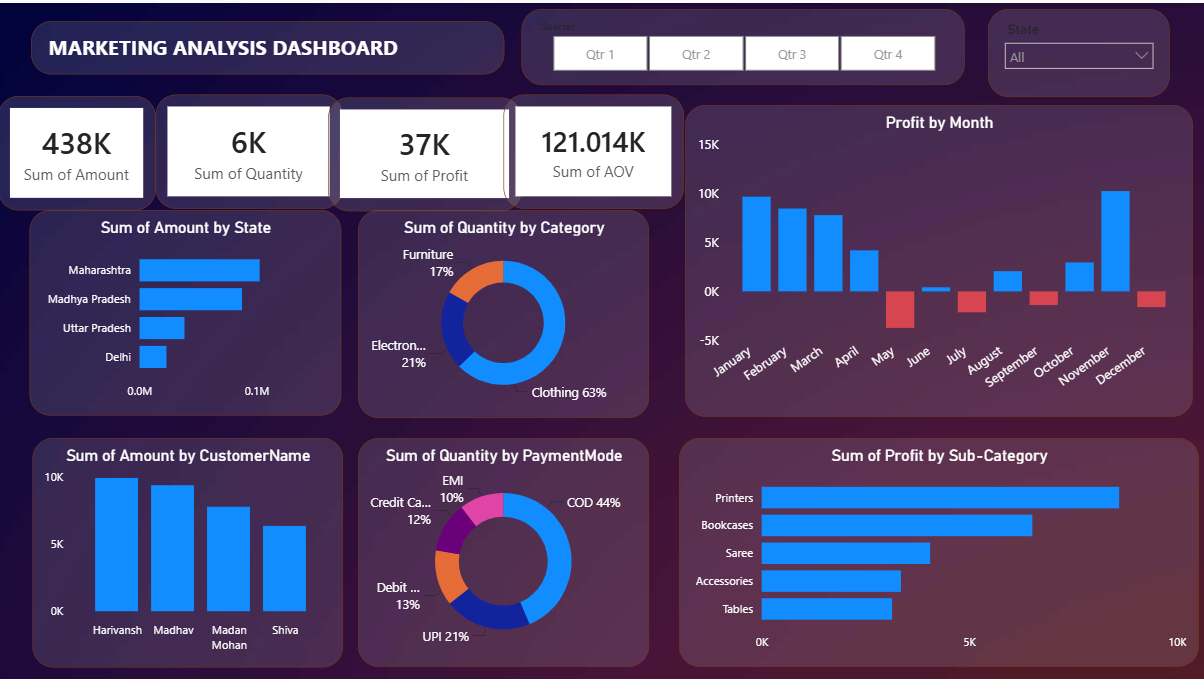

The page's visual inventory and layout, read from the dashboard file:
{"tool":"powerbi","page":{"name":"Page 1","canvas":[1280,720],"ordinal":0},"visuals":[{"type":"textbox","box":[34.9,18.4,501.8,57],"z":0},{"type":"columnChart","title":" Profit by Month","fields":{"Category":["Orders.Order Date.Variation.Date Hierarchy.Month"],"Y":["Sum(Details.Profit)"]},"box":[727.9,108.5,538.6,330.9],"z":1000},{"type":"barChart","fields":{"Category":["Details.Sub-Category"],"Y":["Sum(Details.Profit)"]},"box":[722.4,461.4,551.5,242.6],"z":2000},{"type":"donutChart","fields":{"Category":["Details.Category"],"Y":["Sum(Details.Quantity)"]},"box":[382.3,218.7,308.8,220.6],"z":3000},{"type":"donutChart","fields":{"Category":["Details.PaymentMode"],"Y":["Sum(Details.Quantity)"]},"box":[382.3,461.4,308.8,242.6],"z":4000},{"type":"cardVisual","fields":{"Data":["Sum(Details.Amount)"]},"box":[0,99.3,167.3,121.3],"z":5000},{"type":"cardVisual","fields":{"Data":["Sum(Details.Quantity)"]},"box":[167.3,97.4,198.5,121.3],"z":6000},{"type":"cardVisual","fields":{"Data":["Sum(Details.Profit)"]},"box":[349.5,99.5,205.5,120.7],"z":7000},{"type":"cardVisual","fields":{"Data":["Sum(Details.AOV)"]},"box":[536.8,97.4,191.2,121.3],"z":8000},{"type":"barChart","fields":{"Category":["Orders.State"],"Y":["Sum(Details.Amount)"]},"box":[33.9,220.3,330.4,218.2],"z":9000},{"type":"columnChart","fields":{"Category":["Orders.CustomerName"],"Y":["Sum(Details.Amount)"]},"box":[37,461,329,243],"z":10000},{"type":"slicer","fields":{"Values":["Orders.Order Date.Variation.Date Hierarchy.Quarter"]},"box":[554.9,6.4,470.2,80.5],"z":11000},{"type":"slicer","fields":{"Values":["Orders.State"]},"box":[1050.6,6.4,192.7,93.2],"z":12000}]}

Visuals, with their boxes in screenshot pixels (x1, y1, x2, y2), scaled from the page's 1280x720 canvas onto the 1204x679 screenshot:
textbox: bbox(33, 17, 505, 71)
" Profit by Month" columnChart: bbox(685, 102, 1191, 414)
barChart - Details.Sub-Category x Sum(Details.Profit): bbox(680, 435, 1198, 664)
donutChart - Details.Category x Sum(Details.Quantity): bbox(360, 206, 650, 414)
donutChart - Details.PaymentMode x Sum(Details.Quantity): bbox(360, 435, 650, 664)
cardVisual - Sum(Details.Amount): bbox(0, 94, 157, 208)
cardVisual - Sum(Details.Quantity): bbox(157, 92, 344, 206)
cardVisual - Sum(Details.Profit): bbox(329, 94, 522, 208)
cardVisual - Sum(Details.AOV): bbox(505, 92, 685, 206)
barChart - Orders.State x Sum(Details.Amount): bbox(32, 208, 343, 414)
columnChart - Orders.CustomerName x Sum(Details.Amount): bbox(35, 435, 344, 664)
slicer - Orders.Order Date.Variation.Date Hierarchy.Quarter: bbox(522, 6, 964, 82)
slicer - Orders.State: bbox(988, 6, 1169, 94)
